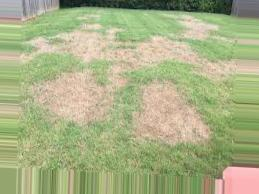patch: (139, 86, 202, 143), (49, 80, 103, 123), (116, 43, 187, 60), (72, 33, 100, 60), (207, 61, 228, 82), (187, 19, 204, 41), (34, 38, 49, 54)
